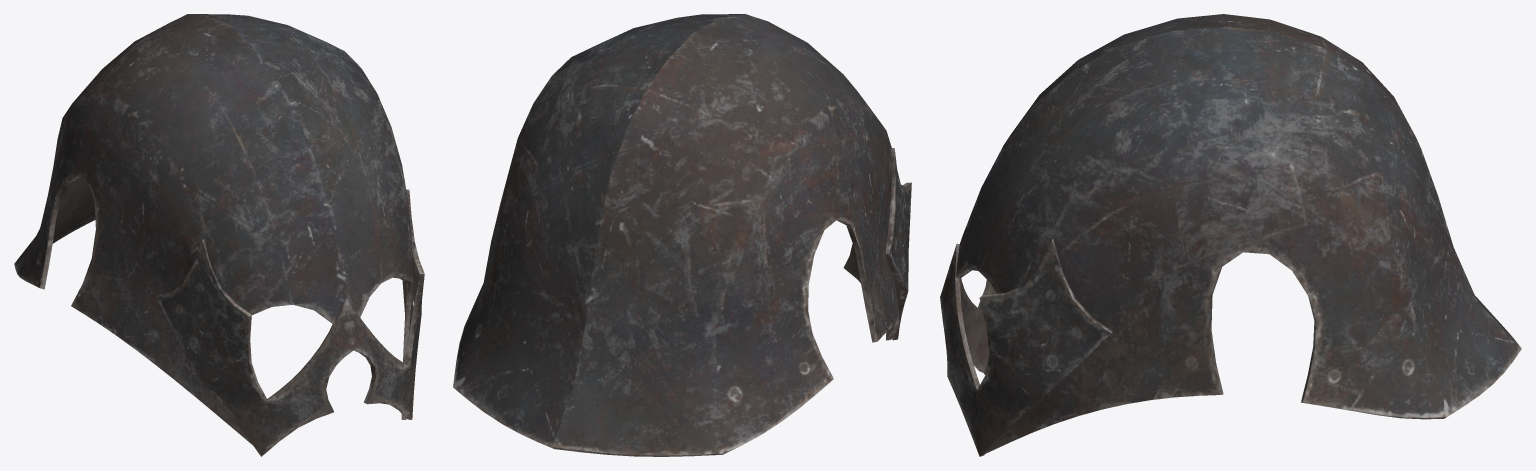
File: sk_dg_uruk_helmet_med_a.fbx
3 views of the same model, side by side, from view 1: azimuth 30°, elevation 25°; view 2: azimuth 150°, elevation 25°; view 3: azimuth 270°, elevation 25° (orthographic). The views are drawn at different scales.
Visible parts, largest first — view 1: sk_dg_uruk_helmet_med_a; view 2: sk_dg_uruk_helmet_med_a; view 3: sk_dg_uruk_helmet_med_a.
Boxes of the visible parts, box(x1,y1,x2,y2) form: sk_dg_uruk_helmet_med_a: box(14, 14, 424, 456); sk_dg_uruk_helmet_med_a: box(453, 14, 911, 456); sk_dg_uruk_helmet_med_a: box(940, 14, 1521, 456).
Bounding box in the file's own units: 0.2303 × 0.3097 × 0.2277.
Materials: 1 (1 with a texture image).
